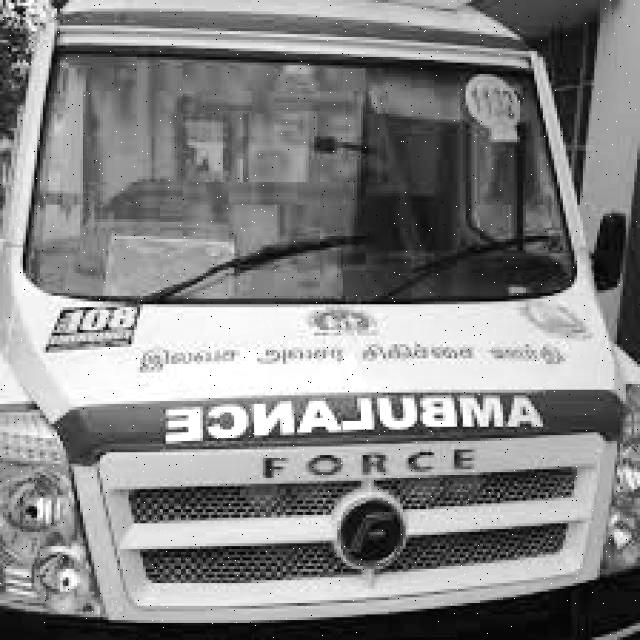LCV: (1, 3, 639, 633)
